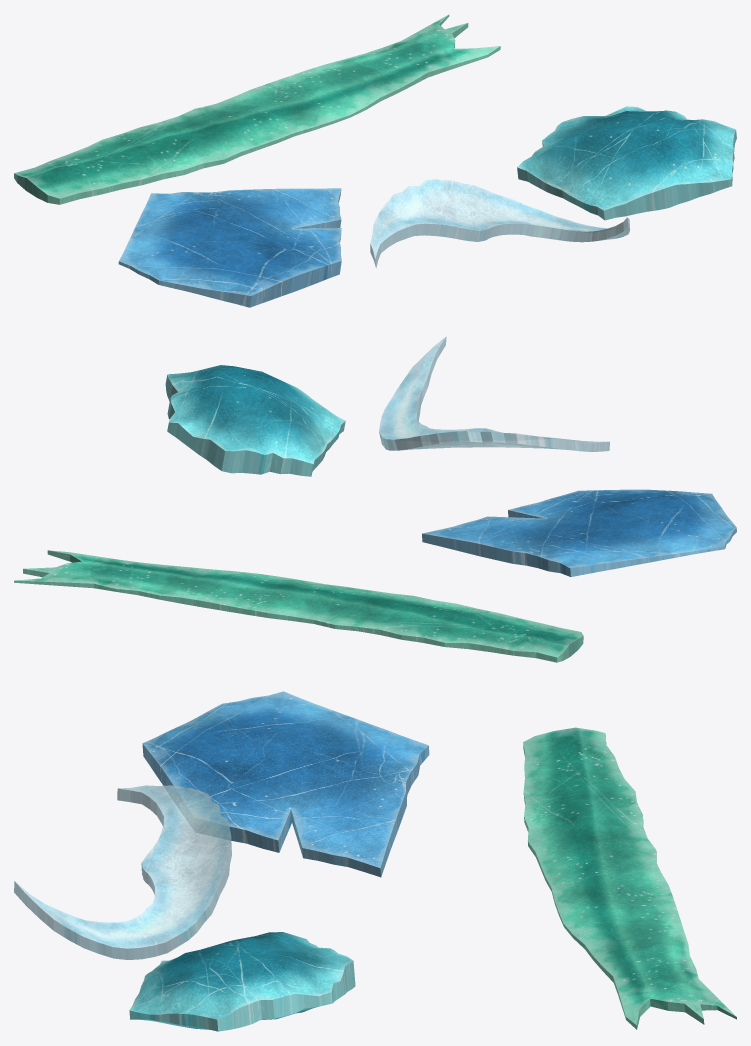
File: fragmen.glb
3 views of the same model, one above another, from view 1: azimuth 30°, elevation 25°; view 2: azimuth 150°, elevation 25°; view 3: azimuth 270°, elevation 25° (orthographic). The views are drawn at different scales.
Visible parts, largest first — view 1: fragmen; view 2: fragmen; view 3: fragmen.
Part boxes in pixels (box(x1,y1,x2,y2)): fragmen: box(14, 14, 736, 307); fragmen: box(14, 336, 736, 662); fragmen: box(14, 691, 736, 1031).
Size of the model in its own units: 0.3102 by 0.0311 by 0.2791.
4 materials, 4 textured.
